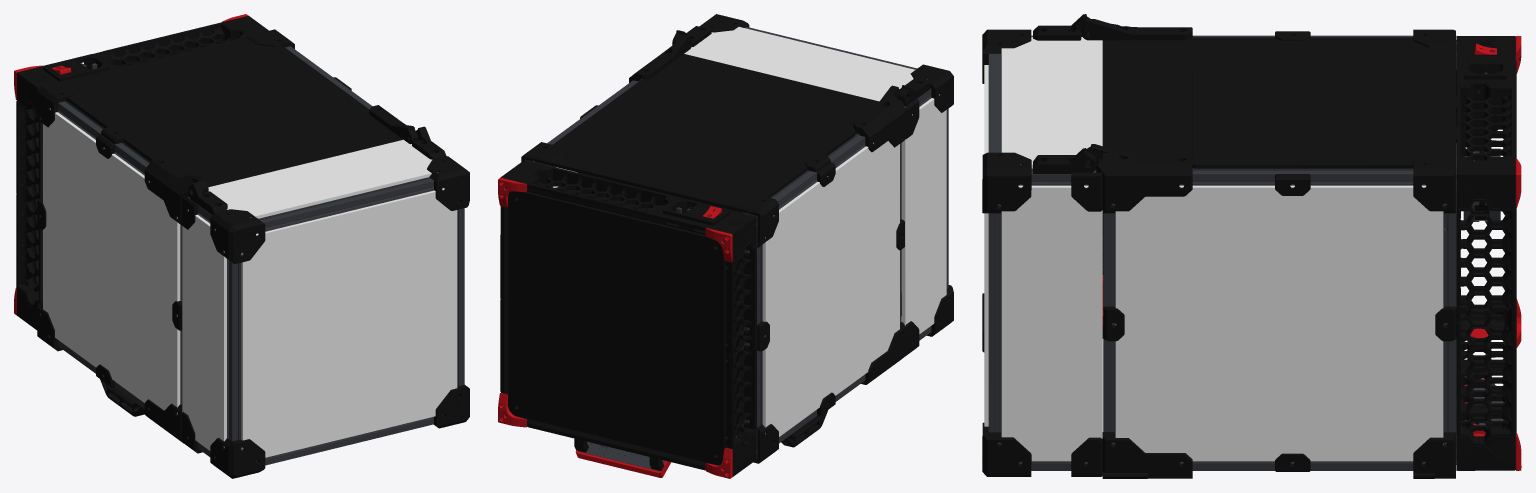
File: voron0.glb
3 views of the same model, side by side, from view 1: azimuth 30°, elevation 25°; view 2: azimuth 150°, elevation 25°; view 3: azimuth 270°, elevation 25° (orthographic). The views are drawn at different scales.
Visible parts, largest first — view 1: glass__f0f0f0, panels__141518, frame__383b40, frame__141518; view 2: panels__141518, glass__f0f0f0, frame__141518, frame__383b40, frame__c4161c; view 3: glass__f0f0f0, panels__141518, frame__141518, frame__383b40, frame__c4161c.
Boxes of the visible parts, x1,y1,x2,y2 form: glass__f0f0f0: (43, 108, 457, 457); panels__141518: (25, 29, 469, 478); frame__383b40: (40, 46, 464, 465); frame__141518: (16, 15, 268, 330); panels__141518: (508, 14, 953, 464); glass__f0f0f0: (553, 27, 946, 436); frame__141518: (500, 160, 756, 476); frame__383b40: (525, 27, 948, 470); frame__c4161c: (498, 177, 732, 478); glass__f0f0f0: (984, 37, 1443, 461); panels__141518: (982, 14, 1516, 478); frame__141518: (1456, 36, 1515, 470); frame__383b40: (988, 35, 1503, 470); frame__c4161c: (1464, 36, 1521, 470).
Bounding box in the file's own units: 239 × 275 × 378.
